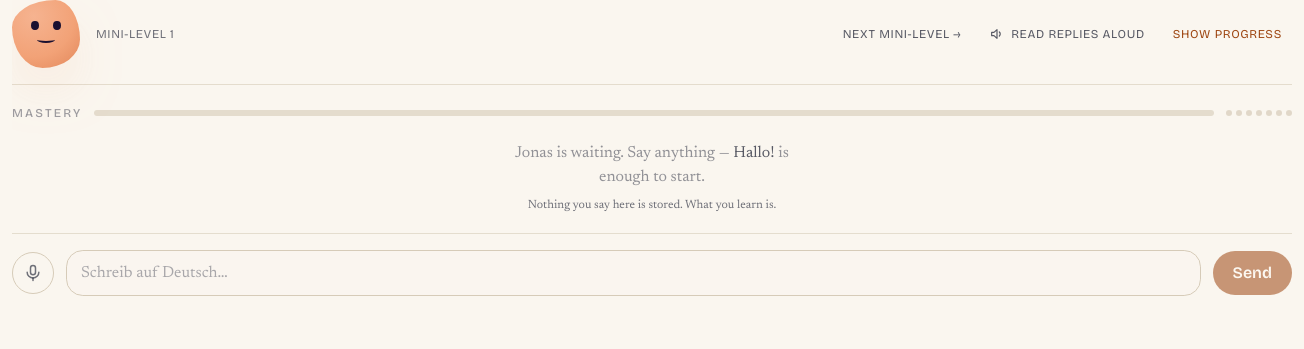
speaking to the tutor › shows the server's own refusal rather than a generic one
Click the button named "speak your message" at (33, 273), box [12,252,54,294]
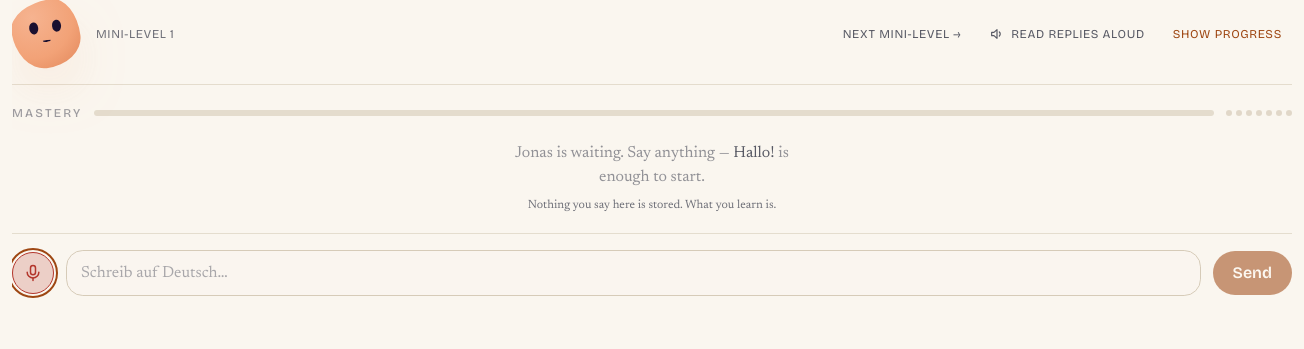
Click the button named "stop recording" at (33, 273), box [12,252,54,294]
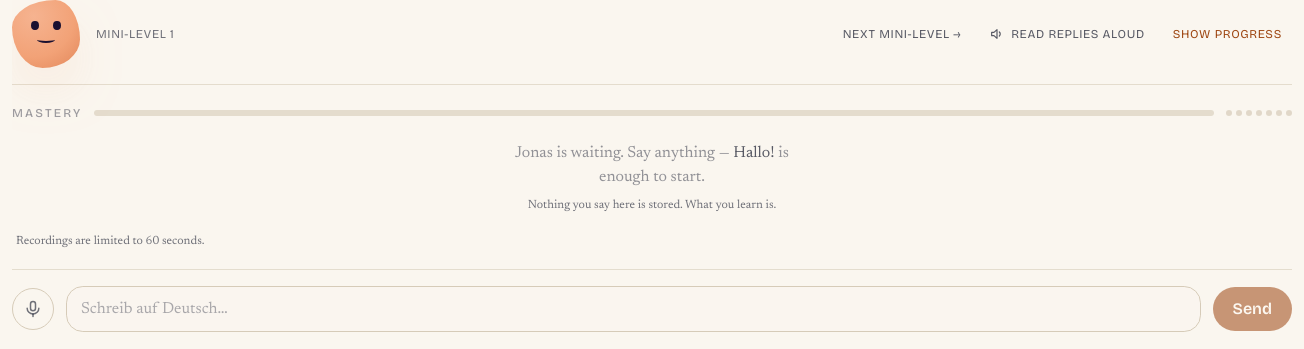
Expected: the field named "your message in german" is empty, [66,286,1201,332]
Expected: the text "Recordings are limited to 60 seconds." is shown, [16,235,204,247]
